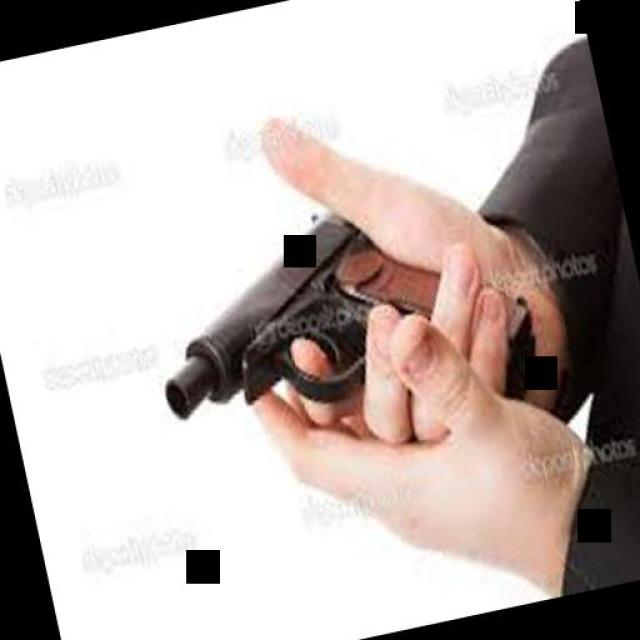gun: (129, 130, 550, 478)
